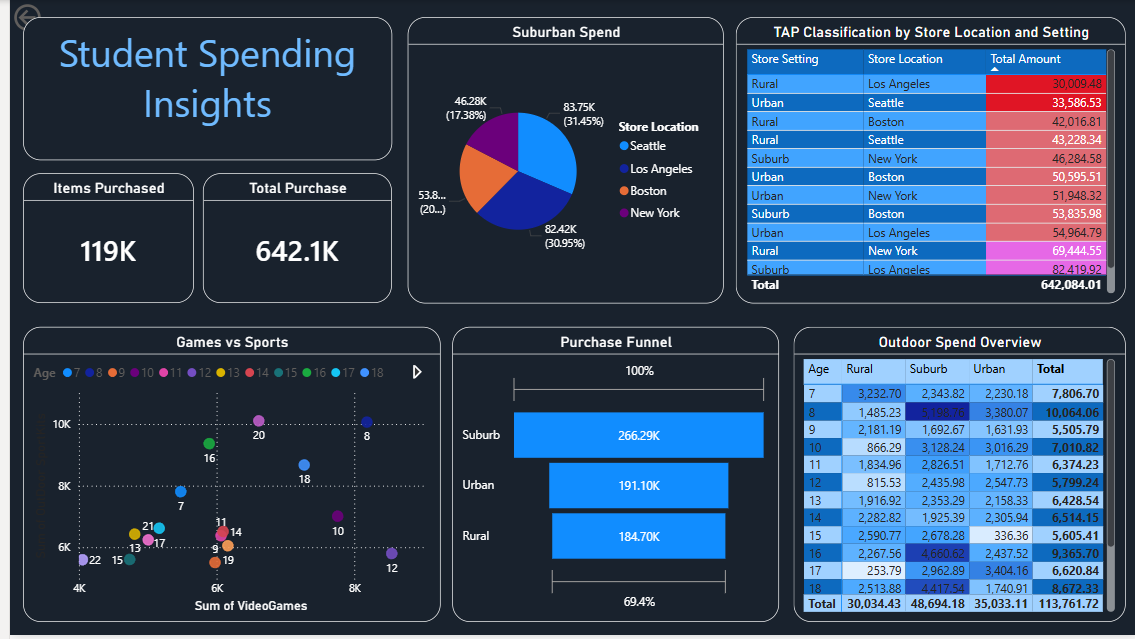

What the dashboard file says about the page in this screenshot:
{"tool":"powerbi","page":{"name":"Page 1","canvas":[1280,720],"ordinal":0},"visuals":[{"type":"actionButton","box":[0,0,100,40],"z":0},{"type":"tableEx","title":"TAP Classification by Store Location and Setting","fields":{"Values":["Student Survey.Store Setting","Student Survey.Store Location","Sum(Student Survey.Total Amount of Purchases)"]},"box":[822.5,19.3,441.8,324.3],"z":1000},{"type":"pivotTable","title":"Outdoor Spend Overview","fields":{"Rows":["Student Survey.Age"],"Values":["Sum(Student Survey.OutDoor SportKits)"],"Columns":["Student Survey.Store Setting"]},"box":[888,370.4,376.3,334.7],"z":2000},{"type":"pieChart","title":"Suburban Spend","fields":{"Y":["Sum(Student Survey.Total Amount of Purchases)"],"Category":["Student Survey.Store Location","Student Survey.Store Setting"]},"box":[450.7,19.3,358.5,324.3],"z":3000},{"type":"cardVisual","title":"Total Purchase","fields":{"Data":["Sum(Student Survey.Total Amount of Purchases)"]},"box":[218.6,196.3,214.2,147.3],"z":4000},{"type":"cardVisual","title":"Items Purchased","fields":{"Data":["Sum(Student Survey.Number of Items Purchased)"]},"box":[14.9,196.3,193.4,147.3],"z":5000},{"type":"funnel","title":"Purchase Funnel","fields":{"Category":["Student Survey.Store Setting"],"Y":["Sum(Student Survey.Total Amount of Purchases)"]},"box":[501.3,370.4,370.4,334.7],"z":7000},{"type":"scatterChart","title":"Games vs Sports","fields":{"X":["Sum(Student Survey.VideoGames)"],"Y":["Sum(Student Survey.OutDoor SportKits)"],"Series":["Student Survey.Age"]},"box":[14.9,370.4,473,334.7],"z":8000},{"type":"textbox","box":[14.9,19.3,418,162.1],"z":8001}]}

Visuals, with their boxes in screenshot pixels (x1, y1, x2, y2), scaled from the page's 1280x720 canvas onto the 1135x639 screenshot:
actionButton: region(0, 0, 89, 36)
"TAP Classification by Store Location and Setting" tableEx: region(729, 17, 1121, 305)
"Outdoor Spend Overview" pivotTable: region(787, 329, 1121, 626)
"Suburban Spend" pieChart: region(400, 17, 718, 305)
"Total Purchase" cardVisual: region(194, 174, 384, 305)
"Items Purchased" cardVisual: region(13, 174, 185, 305)
"Purchase Funnel" funnel: region(445, 329, 773, 626)
"Games vs Sports" scatterChart: region(13, 329, 433, 626)
textbox: region(13, 17, 384, 161)
